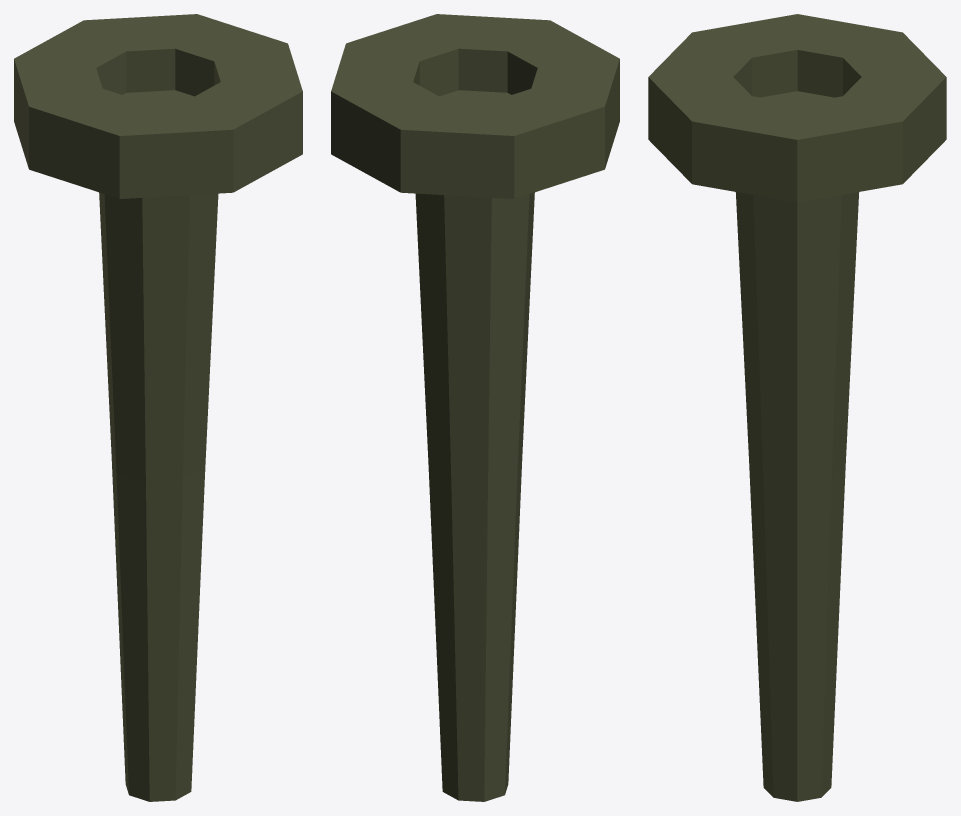
The model's file is Junk_5.fbx.
3 renders of one model, left to right at view 1: azimuth 30°, elevation 25°; view 2: azimuth 150°, elevation 25°; view 3: azimuth 270°, elevation 25°, orthographic.
Visible parts, largest first — view 1: Cylinder.003; view 2: Cylinder.003; view 3: Cylinder.003.
Part boxes in pixels (x1,y1,x2,y2): Cylinder.003: (14, 14, 302, 801); Cylinder.003: (331, 14, 619, 801); Cylinder.003: (648, 14, 946, 801).
Bounding box in the file's own units: 51.5 × 135 × 51.5.
